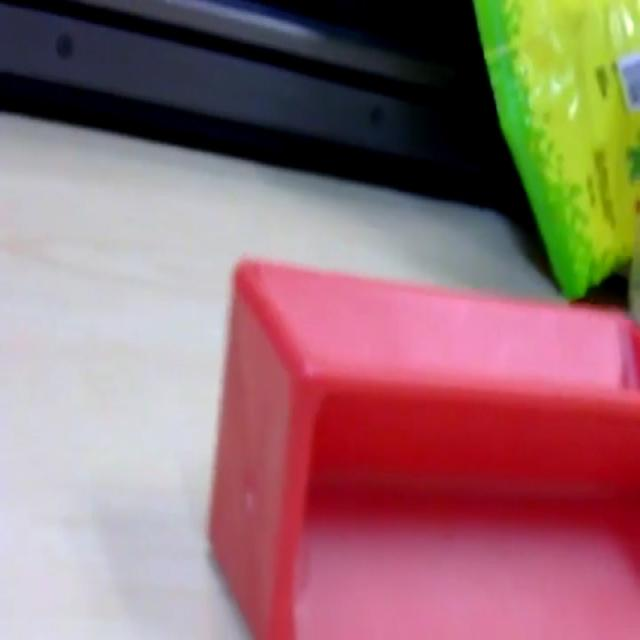red_block: (206, 252, 638, 636)
